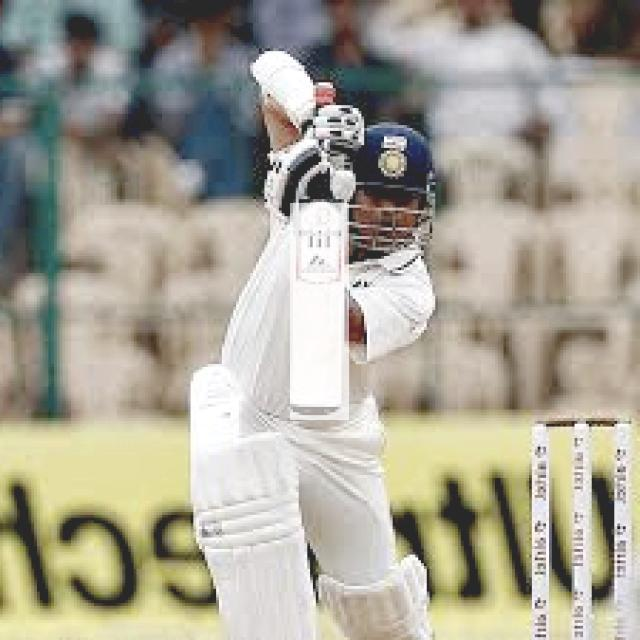bat: (293, 196, 349, 419)
toe: (290, 405, 343, 420)
